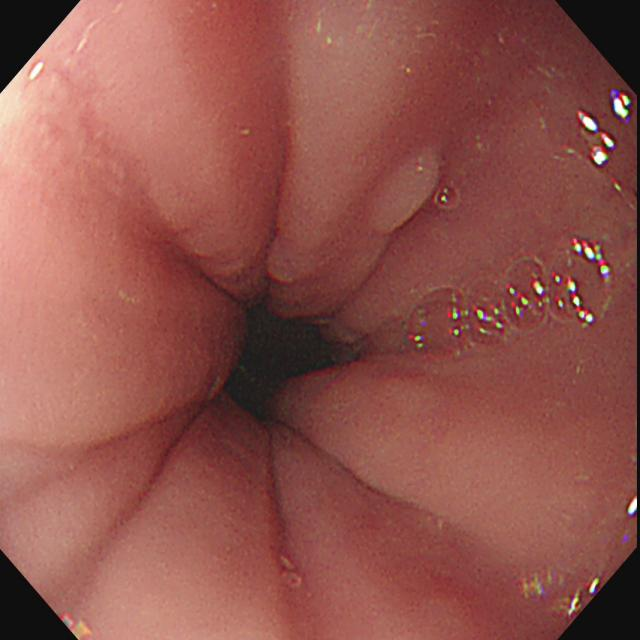I: (162, 217, 383, 501)
T: (406, 257, 598, 354)
U: (574, 108, 616, 171), (571, 234, 610, 281), (568, 577, 602, 620), (518, 575, 548, 602), (609, 88, 632, 121), (625, 492, 639, 520)
